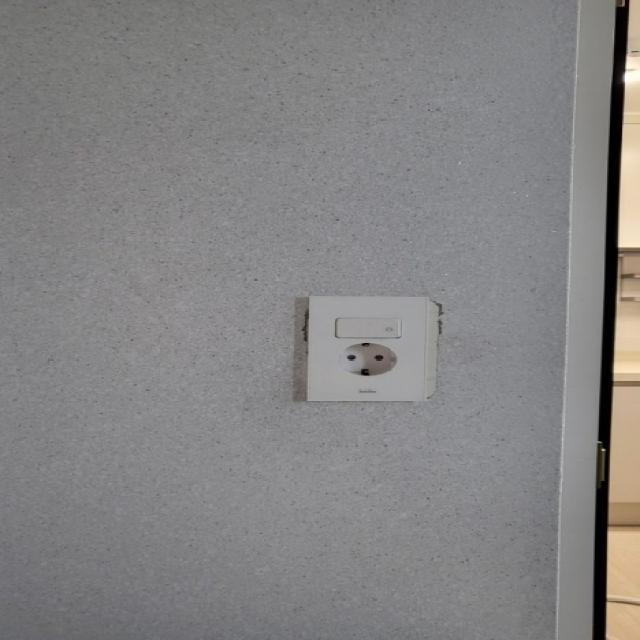typeb: (280, 286, 465, 414)
